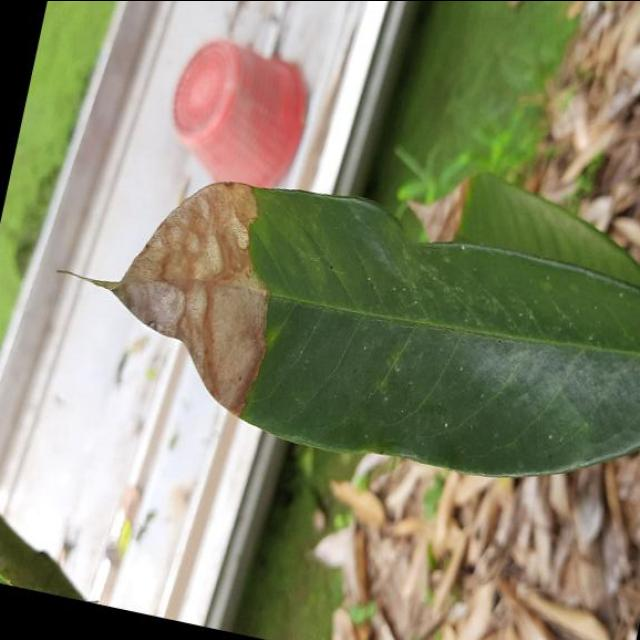Leaf Blight: (68, 134, 640, 528)
